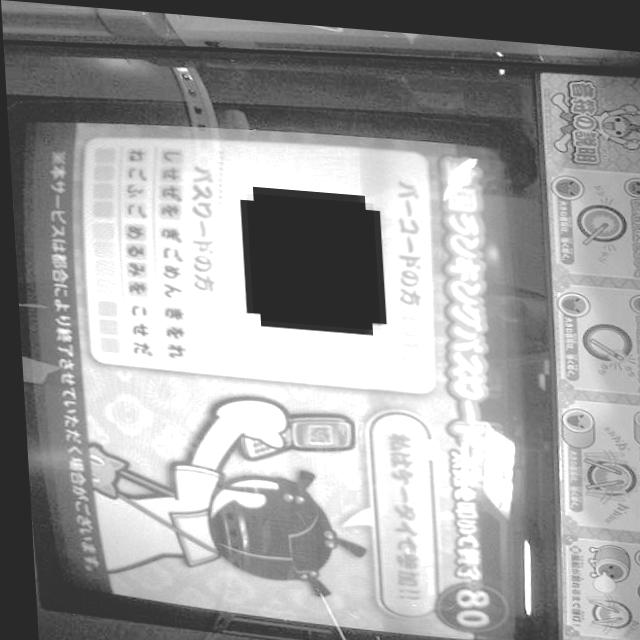qr_code: (243, 189, 376, 324)
